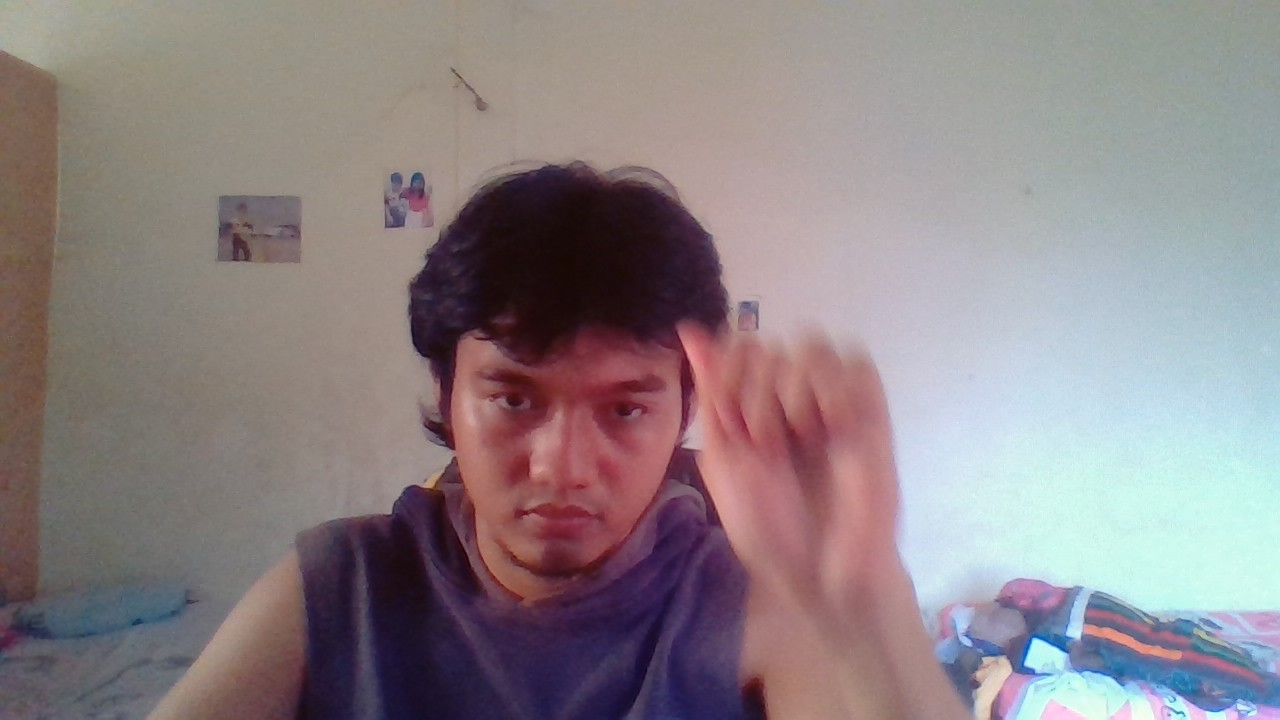A: (663, 295, 957, 595)
